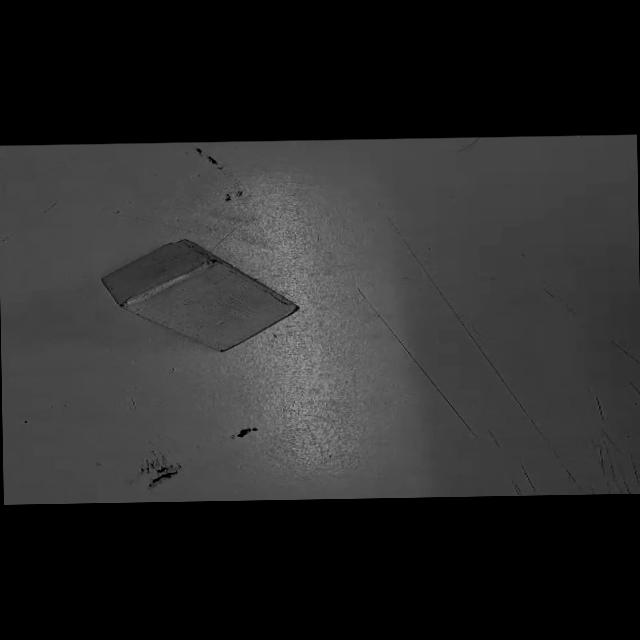ytriangle: (96, 238, 304, 356)
